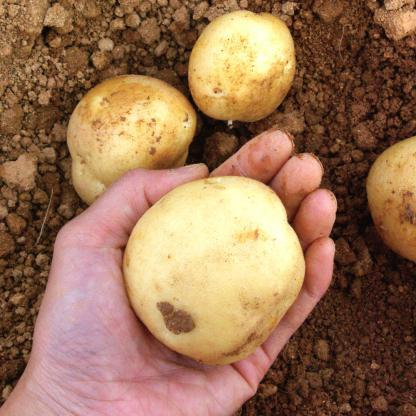potato: (119, 171, 309, 384), (65, 75, 194, 205), (192, 5, 302, 130)
